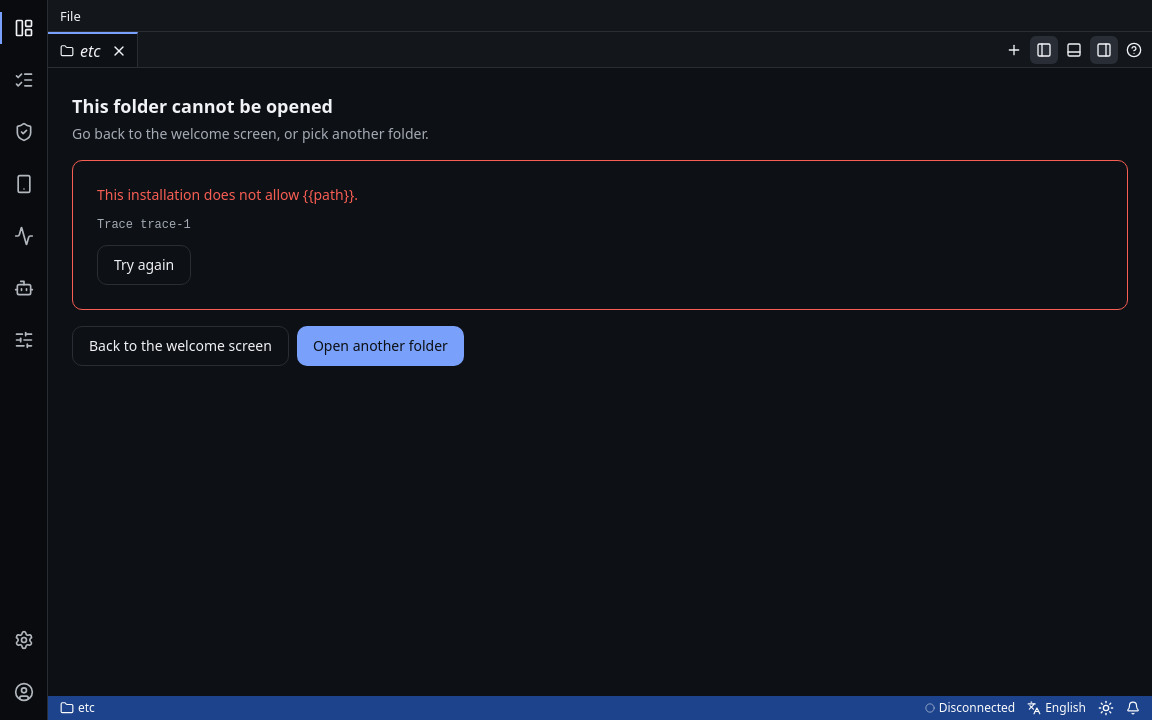
the workbench of one folder — B-16 › opens another folder from the refusal, straight into the workbench
What coordinates should you click on to do the following:
click the button "Open another folder"
I would click on:
 (380, 346)
Its box is [297,326,464,366].
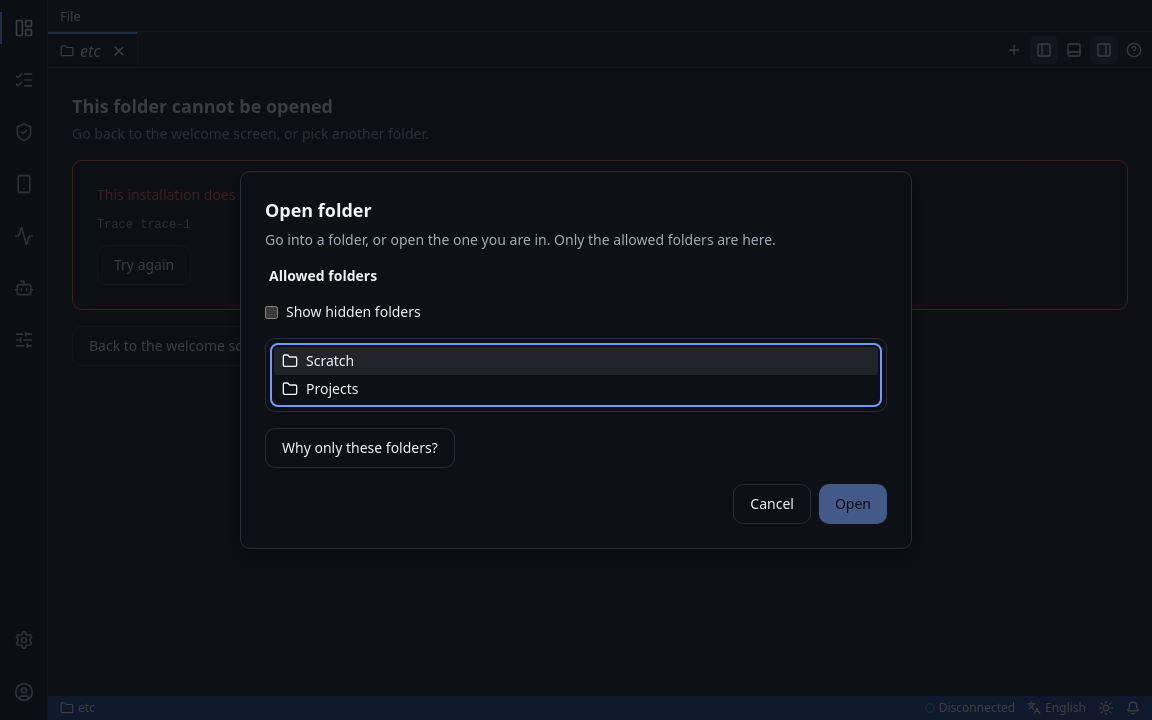
What coordinates should you click on to do the following:
click the option "Projects"
I would click on:
 (320, 388)
Its box is [282,379,358,398].
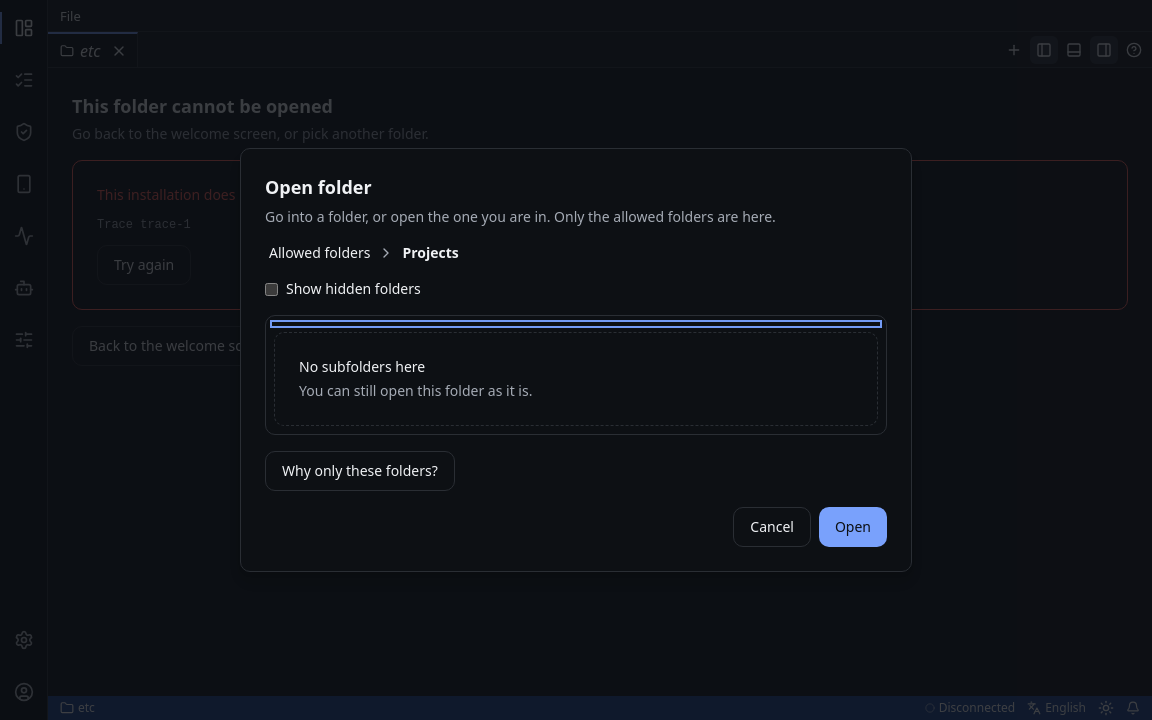
Check: the text "No subfolders here" is shown, box [299,357,425,377]
What coordinates should you click on to do the following:
click the button "Open"
I would click on:
 (853, 527)
Its box is [819,507,887,547].
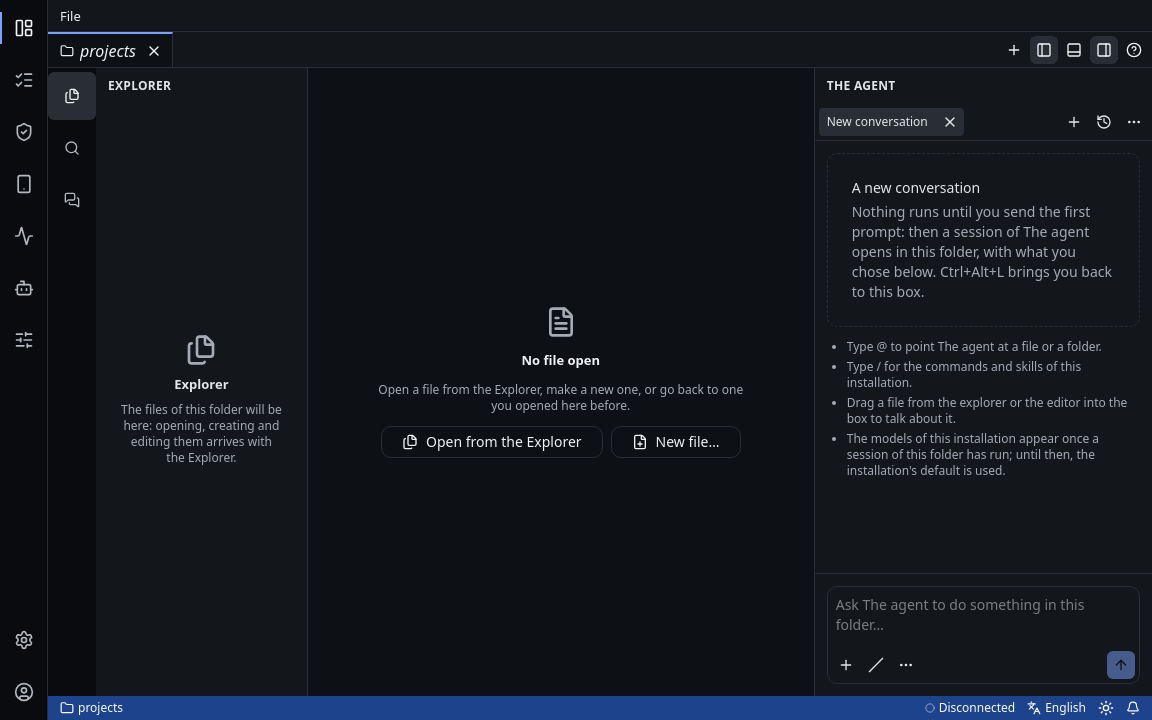
Check: the 1st button "projects" is shown, box [48,32,140,67]
